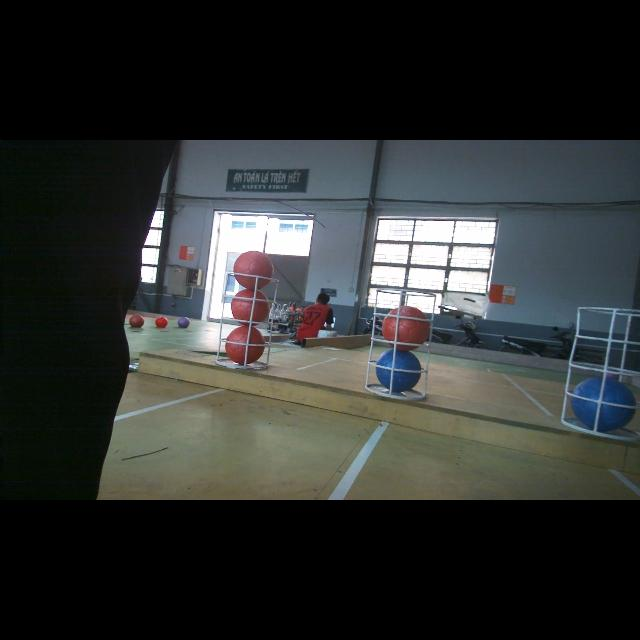B: (572, 375, 638, 433), (377, 348, 423, 394)
R: (382, 306, 430, 352), (234, 250, 274, 290), (230, 289, 272, 327), (226, 326, 264, 366)
